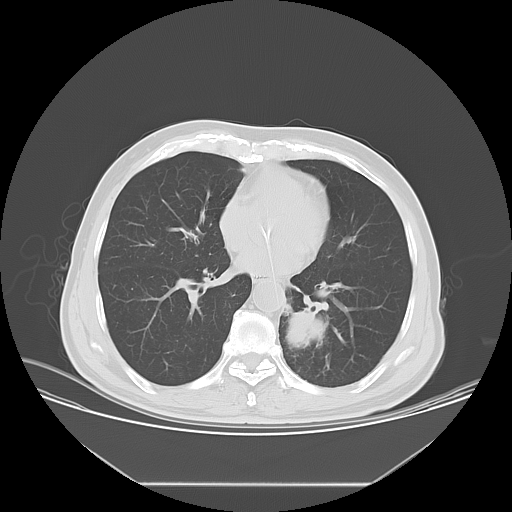nodule: (285, 311, 329, 347)
